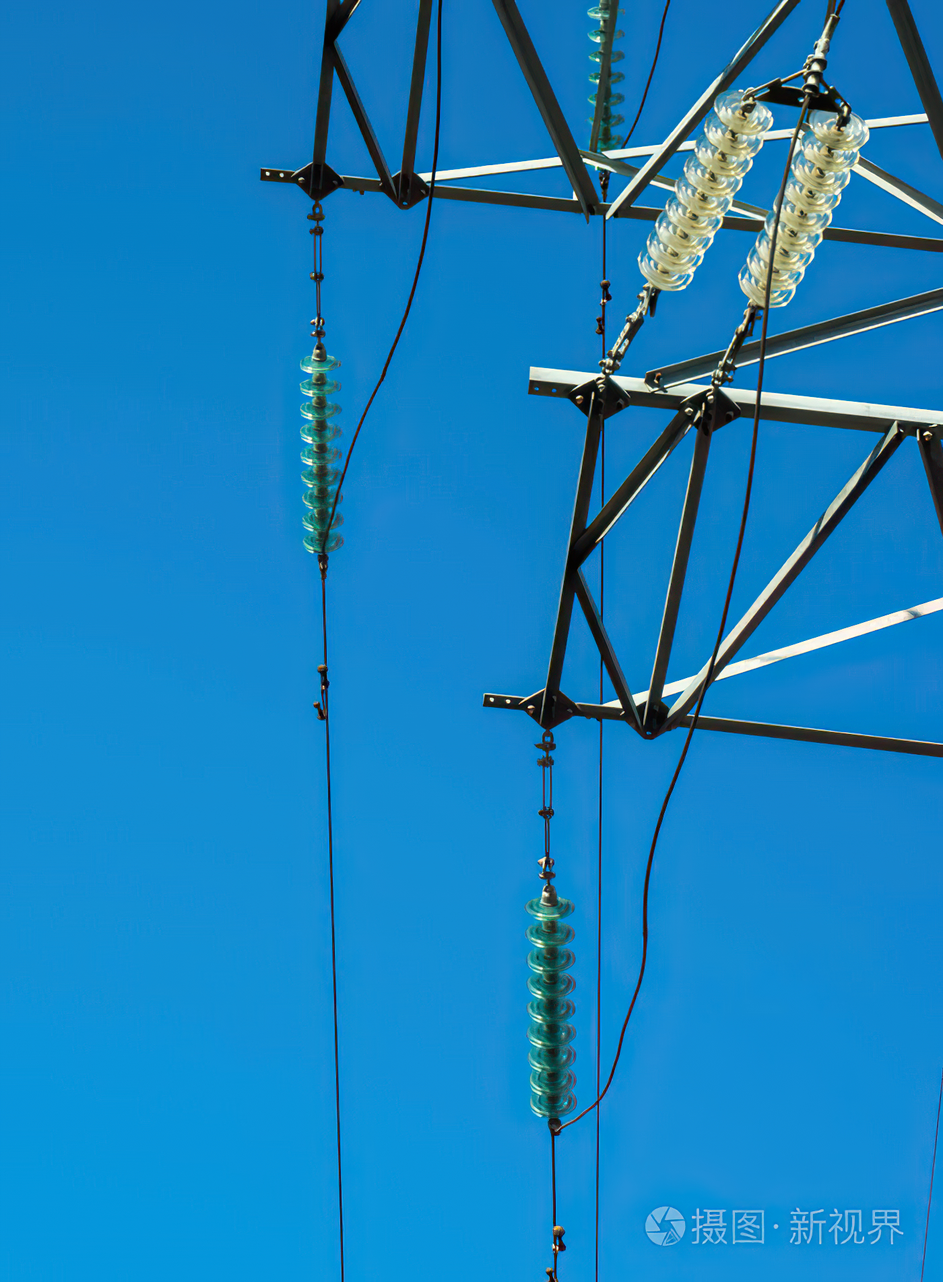insulator: (635, 88, 771, 297), (740, 107, 870, 309), (527, 896, 581, 1121), (296, 349, 348, 557), (582, 2, 639, 147)
